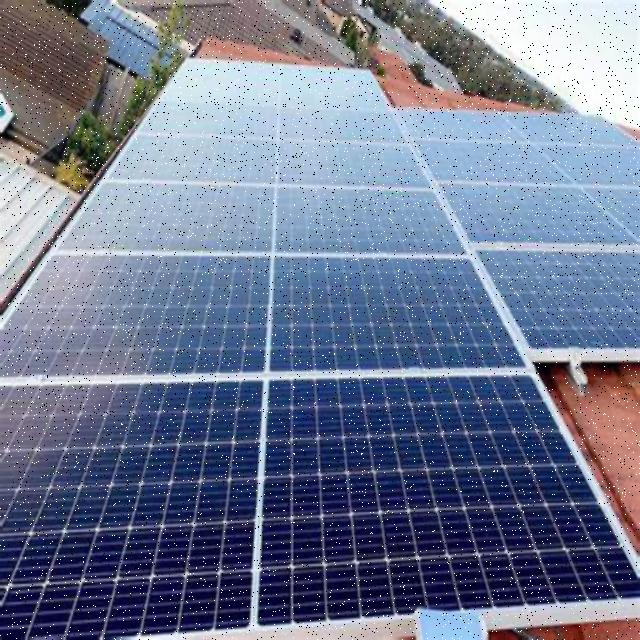clean: (0, 62, 635, 610)
